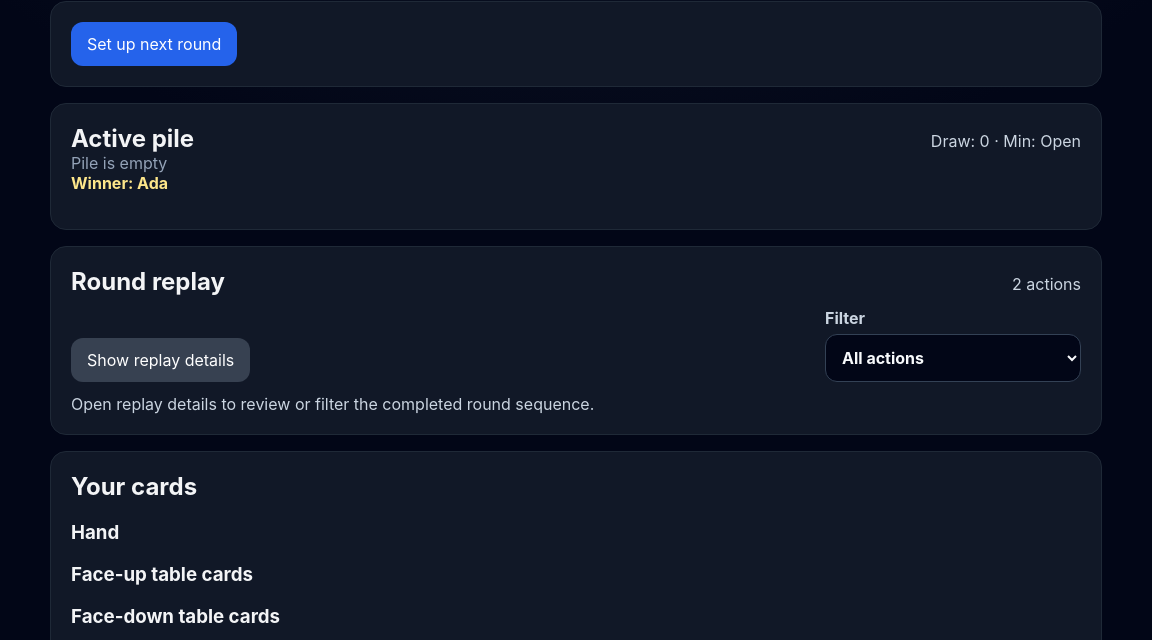
Test case: App – replay summary › renders the completed round replay in a collapsible, filterable detail panel after the game finishes
(page scrolled)
Expected: the heading "Round replay" is shown, [71,267,225,296]
Expected: the text "2 actions" is shown, [1012,274,1081,294]
Click the button "Show replay details" at (161, 360), box [71,338,250,382]
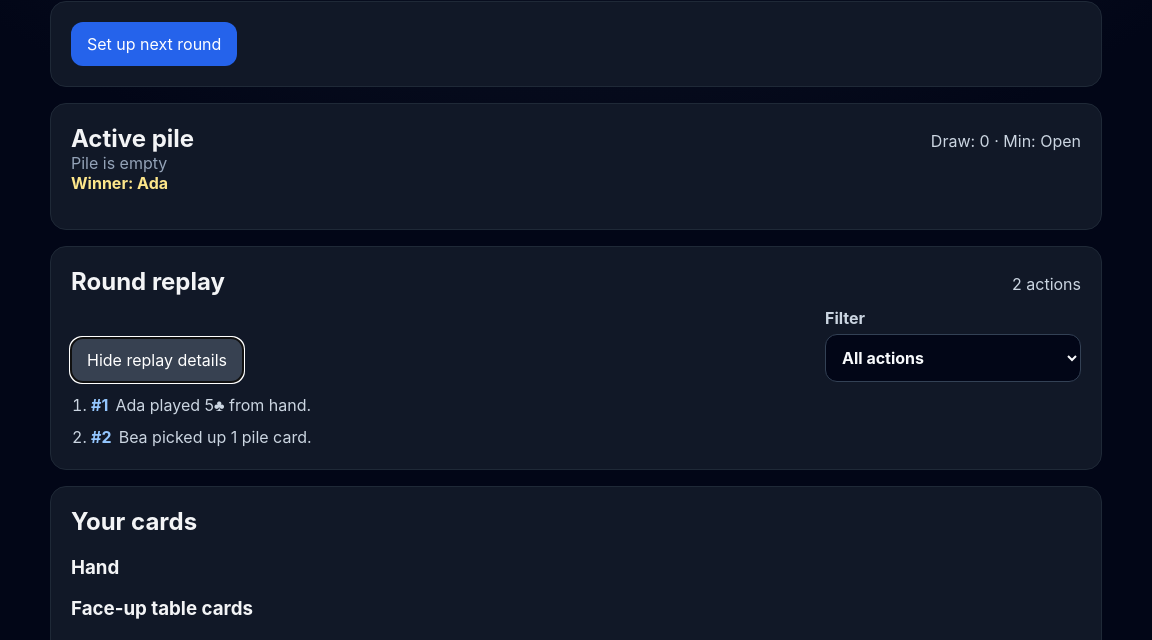
Result: the text "Ada played 5♣ from hand." is shown at [116,395,311,415]
Result: the text "Bea picked up 1 pile card." is shown at [119,426,312,446]
Select "Pickups" in the dropdown named "Replay action filter" at (953, 358), box [825,334,1081,382]
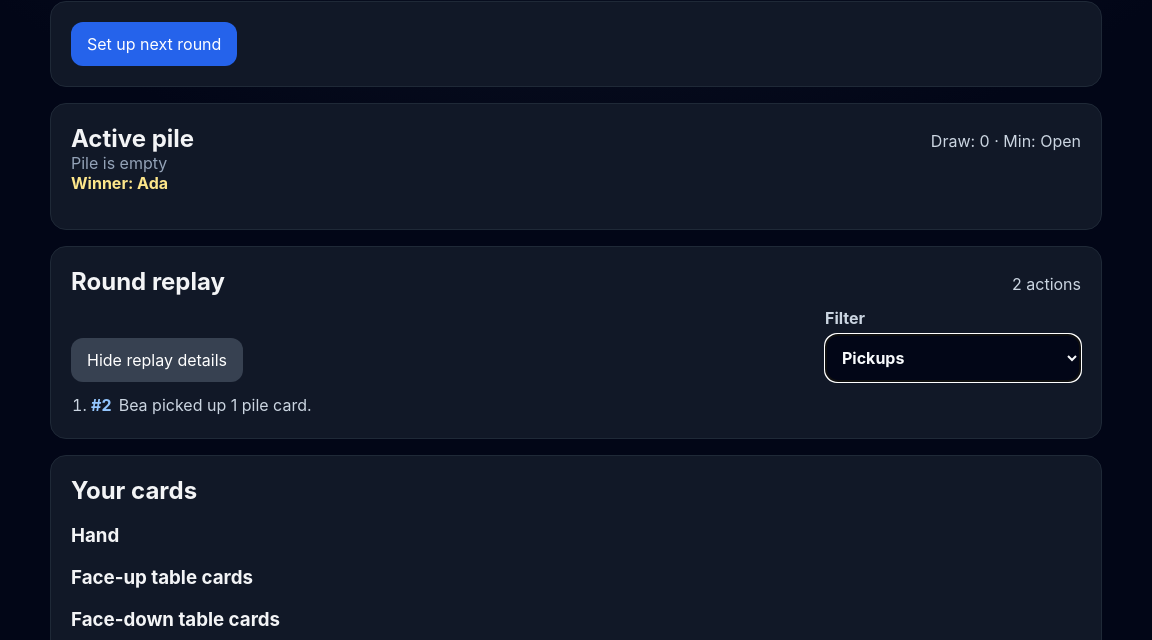
Result: the text "Bea picked up 1 pile card." is shown at [119,395,312,415]
Result: the text "Ada played 5♣ from hand" is gone
